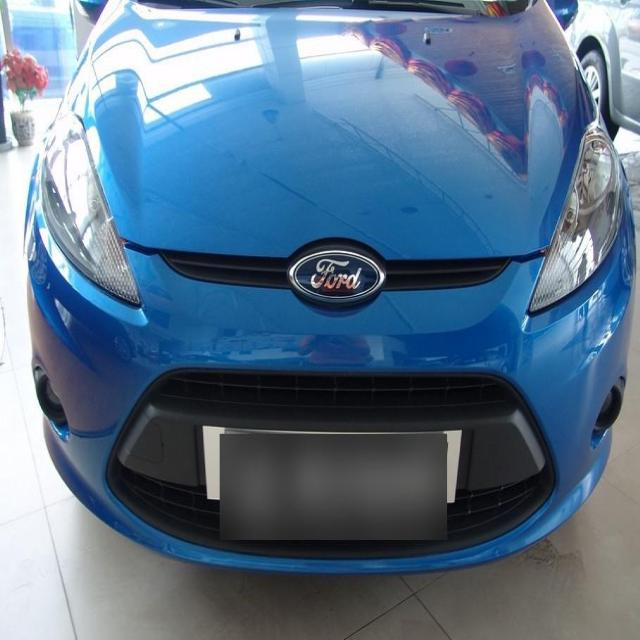front_bumper: (29, 223, 637, 572)
front_left_side_light: (528, 128, 622, 316)
front_right_side_light: (42, 112, 142, 308)
